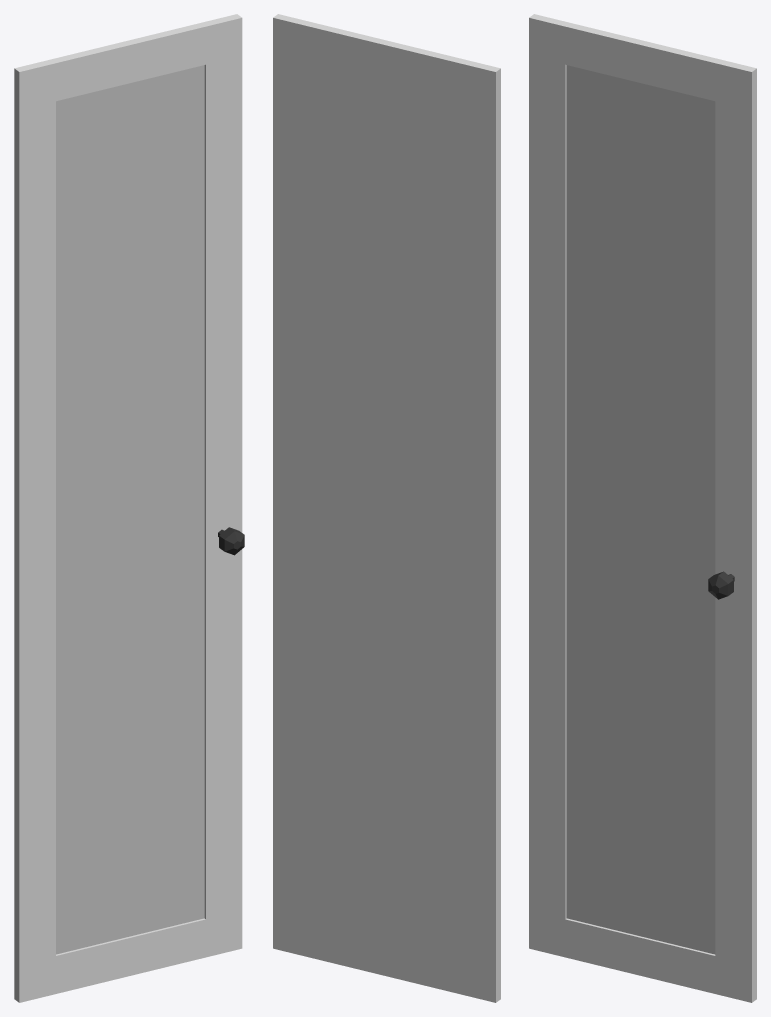
Rendered from Wardrobe7_C1_03.fbx.
3 renders of one model, left to right at view 1: azimuth 30°, elevation 25°; view 2: azimuth 150°, elevation 25°; view 3: azimuth 330°, elevation 25°, orthographic.
Visible parts, largest first — view 1: Wardrobe7_C1_03; view 2: Wardrobe7_C1_03; view 3: Wardrobe7_C1_03.
Boxes of the visible parts, x1,y1,x2,y2 form: Wardrobe7_C1_03: (14, 14, 244, 1002); Wardrobe7_C1_03: (273, 14, 500, 1002); Wardrobe7_C1_03: (529, 14, 756, 1002).
Size of the model in its own units: 50 by 200 by 8.1.
